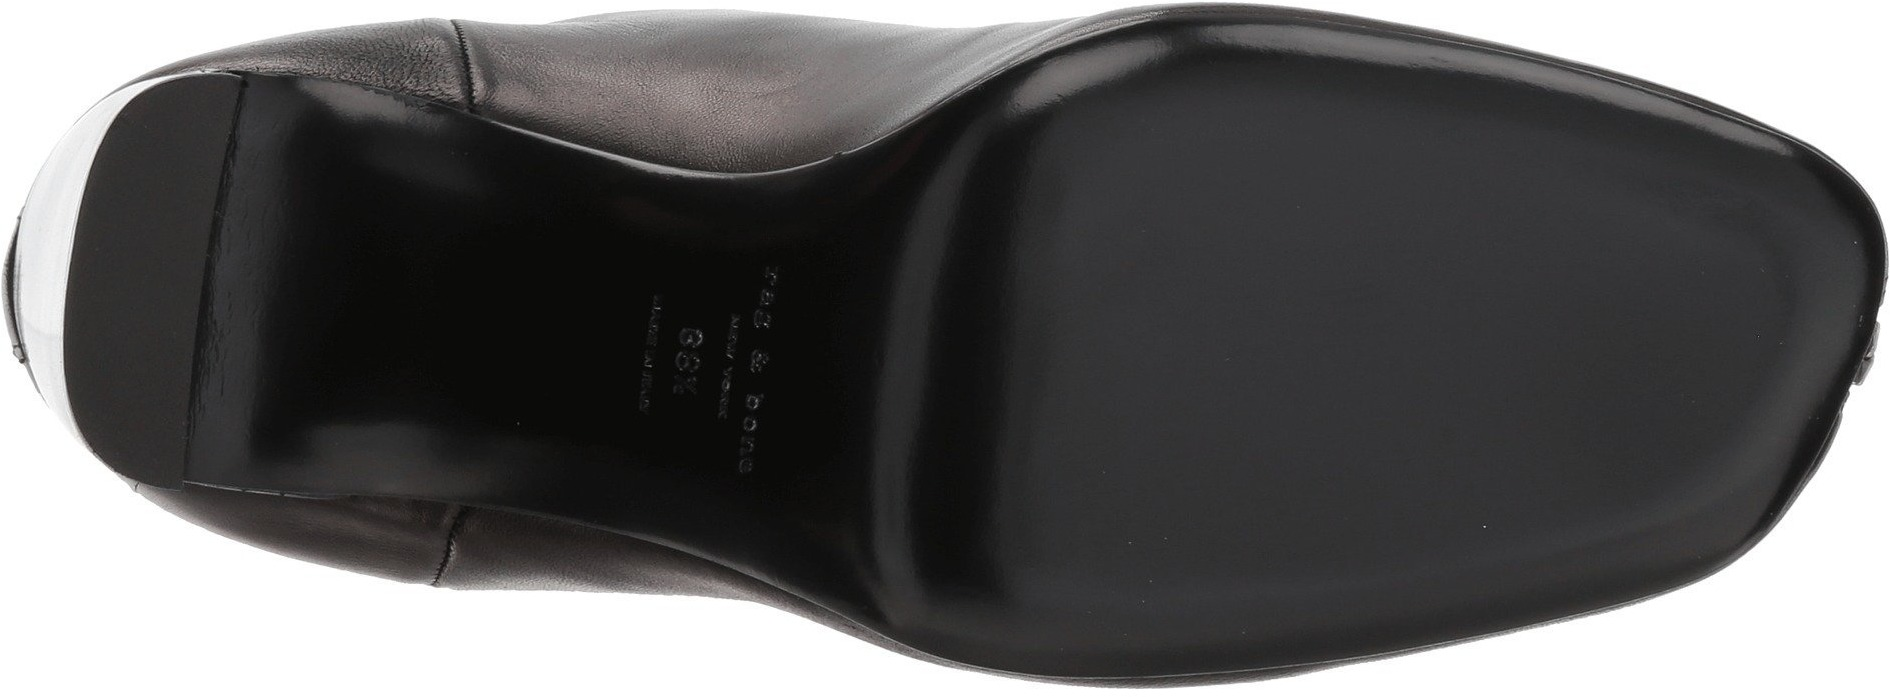exclude: (184, 49, 931, 640)
other: (1198, 57, 1486, 321), (1203, 330, 1463, 574), (1503, 123, 1744, 369), (959, 131, 1190, 386), (943, 399, 1191, 634), (1478, 377, 1675, 582), (77, 299, 194, 420), (96, 169, 209, 276)
